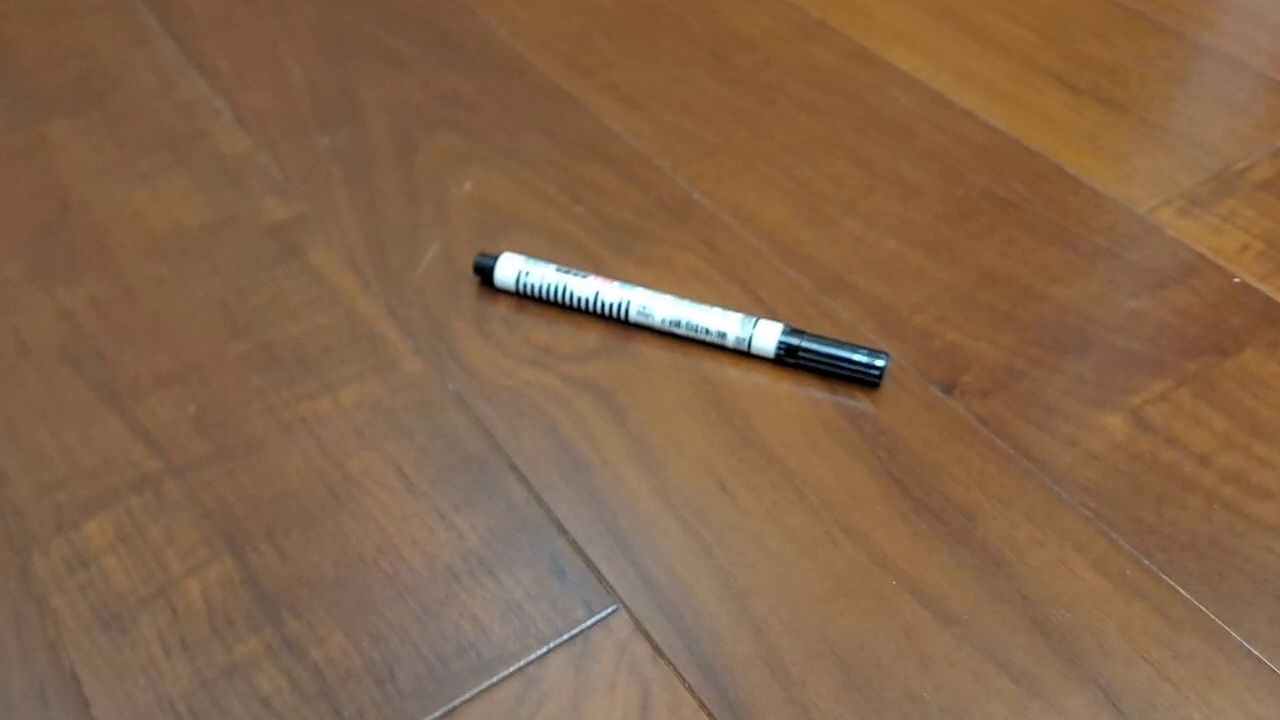pen: (472, 249, 892, 392)
